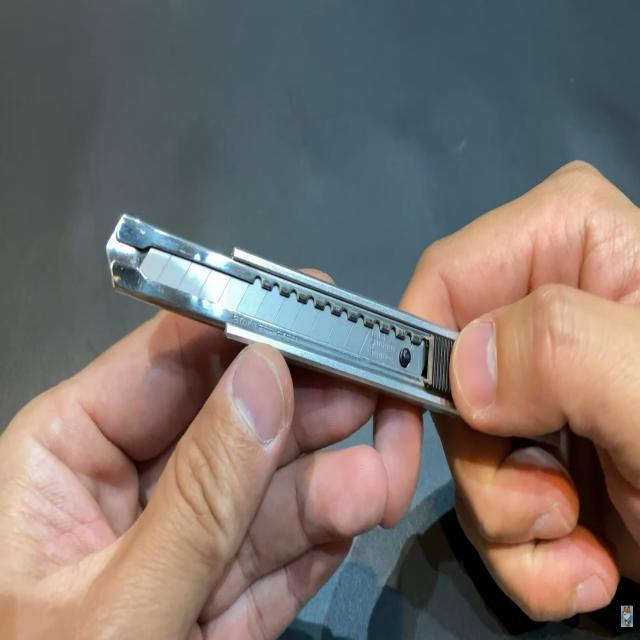cutter: (0, 160, 640, 632)
